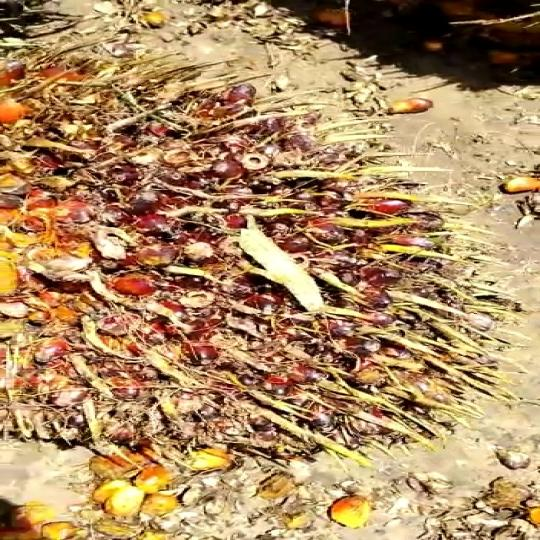masak: (0, 46, 514, 454)
